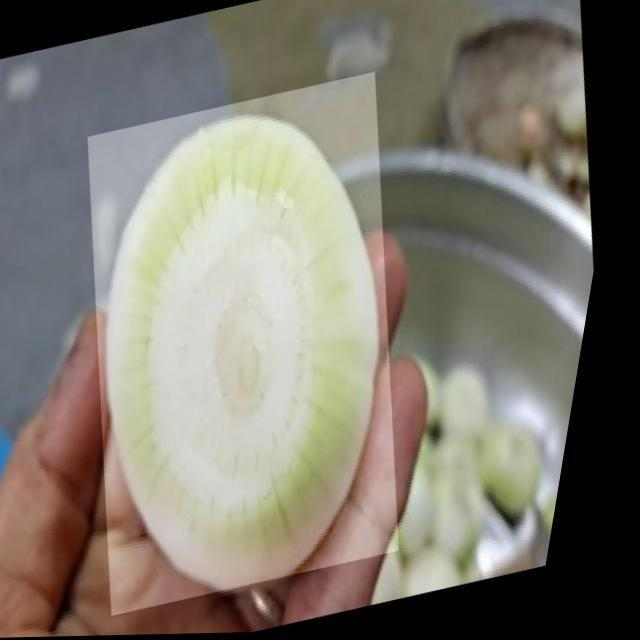Onion: (31, 72, 480, 619)
